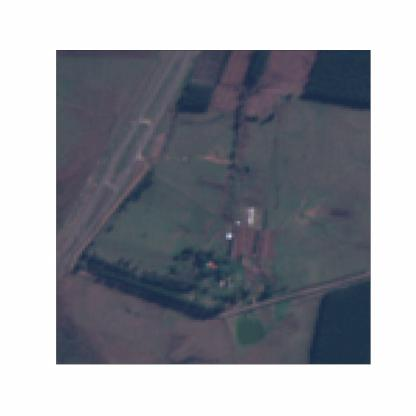silobolsa: (245, 207, 258, 227)
